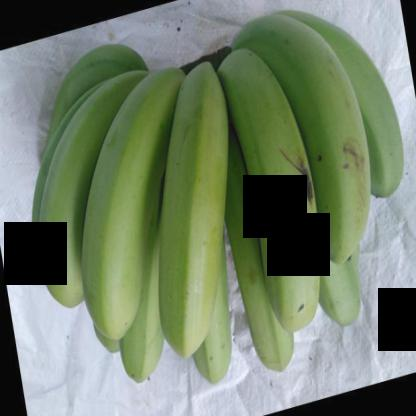freshunripe: (74, 65, 196, 347), (230, 28, 316, 336), (150, 66, 238, 362), (292, 36, 374, 272), (18, 91, 100, 323), (341, 32, 410, 212), (314, 250, 369, 339), (115, 301, 156, 406), (251, 327, 292, 382), (198, 332, 230, 402)
